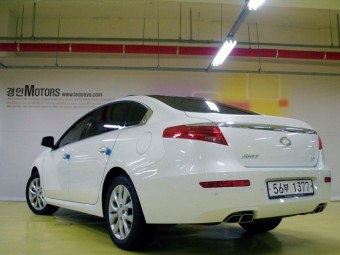car: (266, 177, 315, 199)
